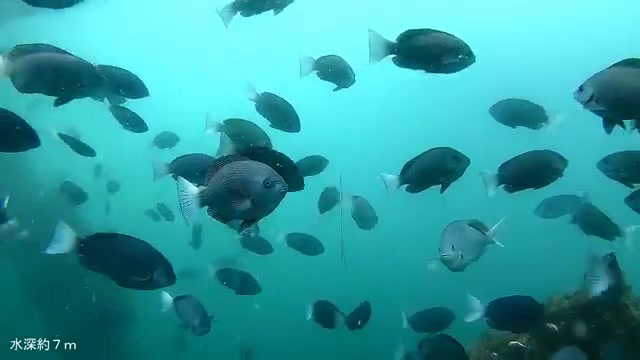gure: (44, 210, 182, 302), (170, 157, 299, 227), (363, 22, 499, 82), (372, 139, 473, 203), (486, 90, 570, 143), (241, 78, 307, 139), (199, 107, 275, 157), (296, 43, 362, 98)
